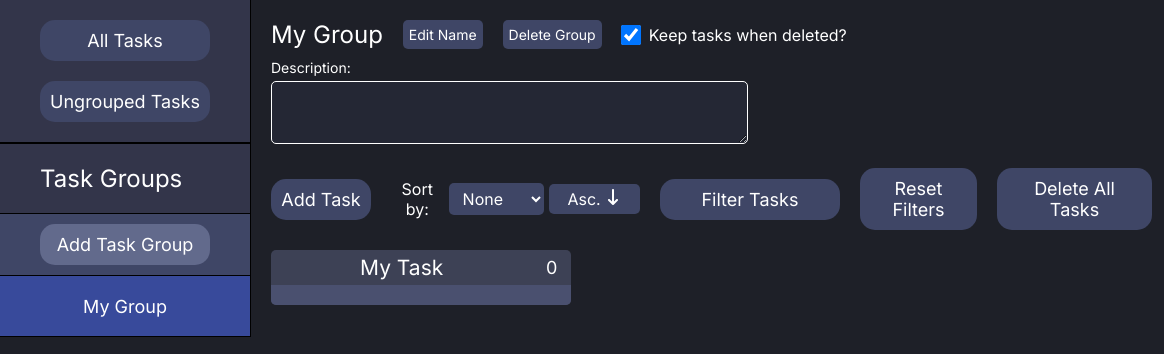
Test: MainPage › Delete a task group › Deleting with preserve tasks unchecked deletes the tasks
The image size is (1164, 354).
Click the checkbox with test id "preserve-tasks-checkbox".
click(631, 34)  # box [621,24,641,44]
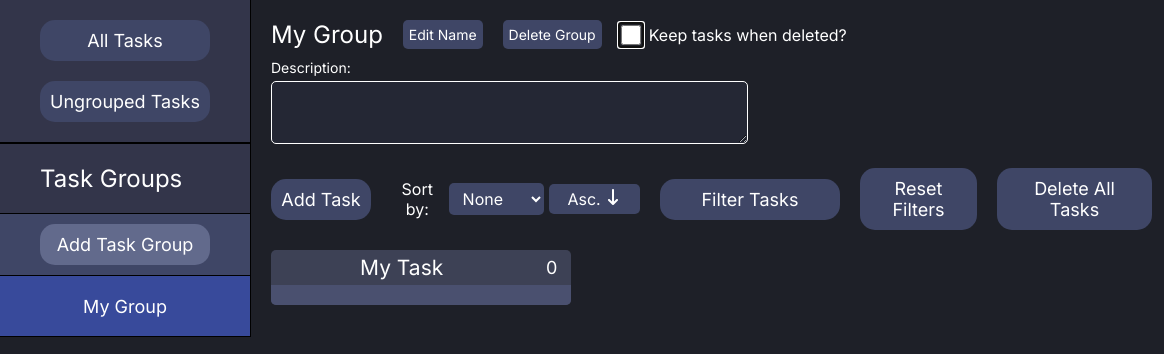
Click the button with test id "group-delete-button".
click(552, 34)  # box [503,20,602,49]
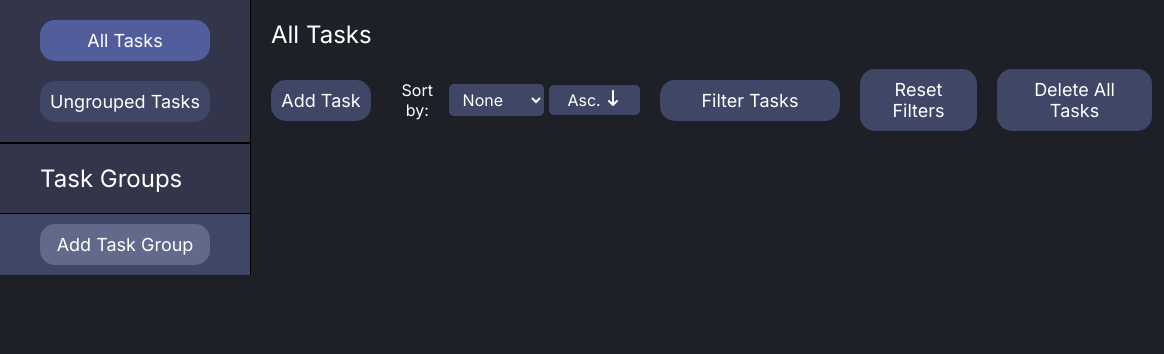
Now the element with test id "task-component-id1" is gone
